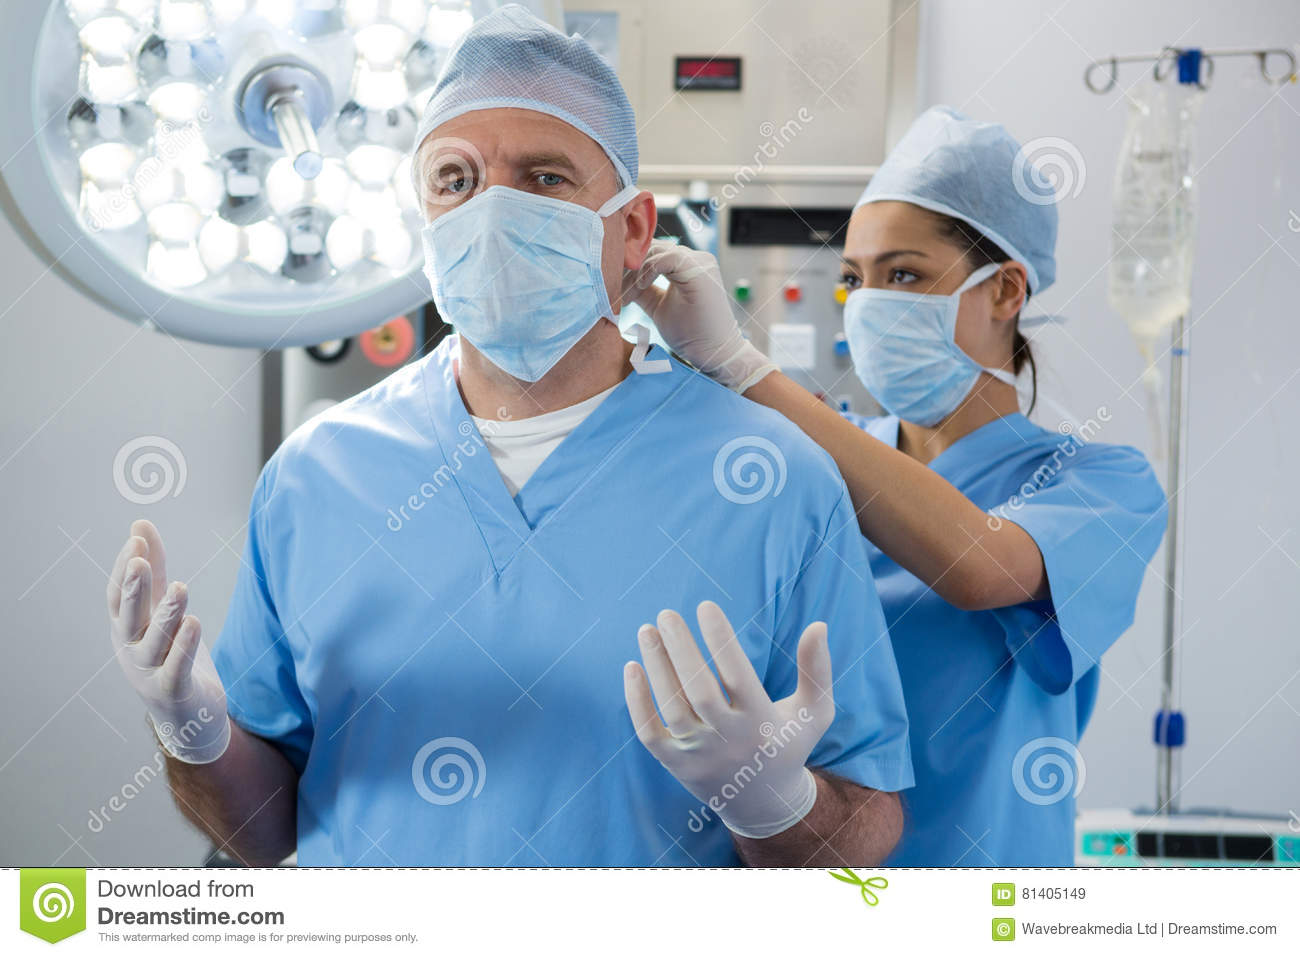mask: (428, 201, 620, 373), (829, 289, 998, 426)
